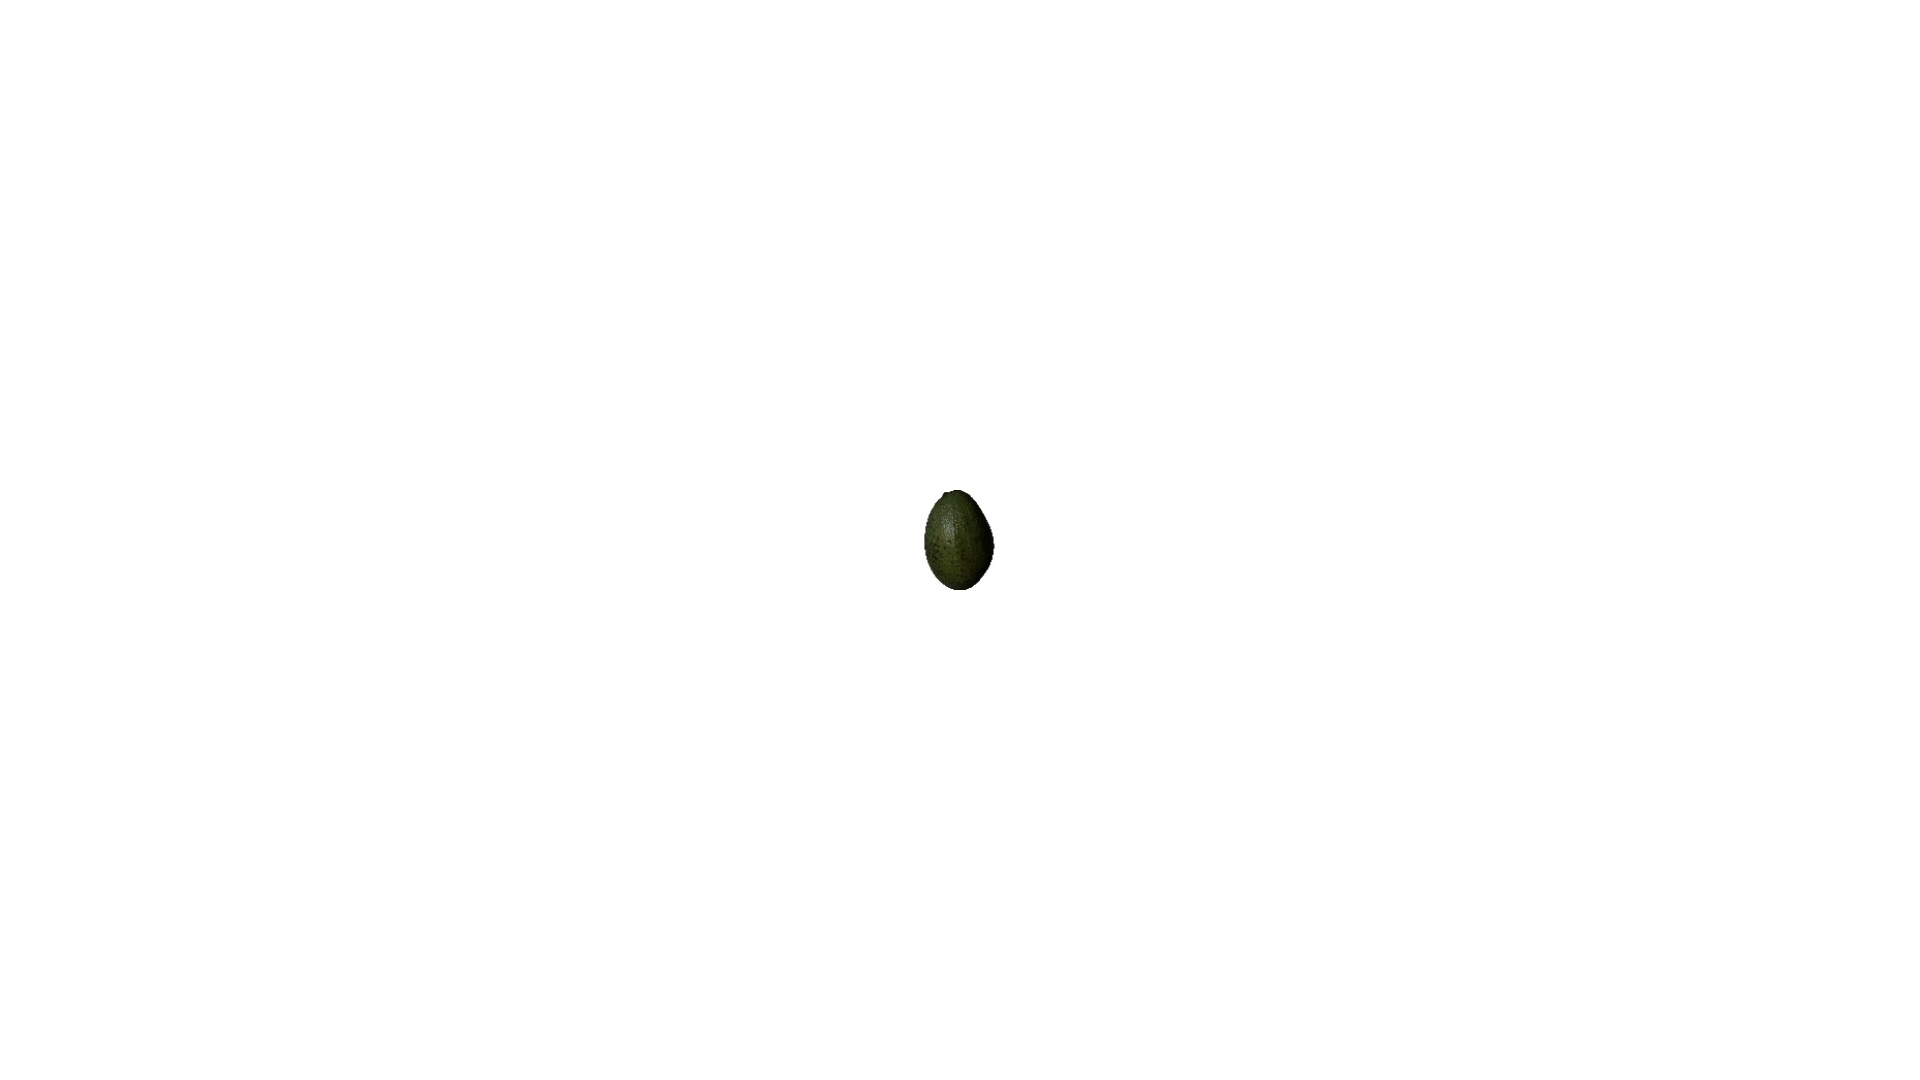abacate: (920, 491, 1001, 593)
